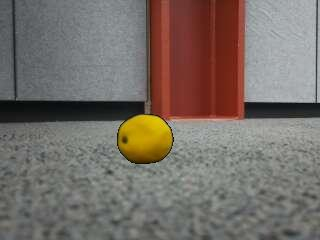lemon: (118, 115, 173, 164)
